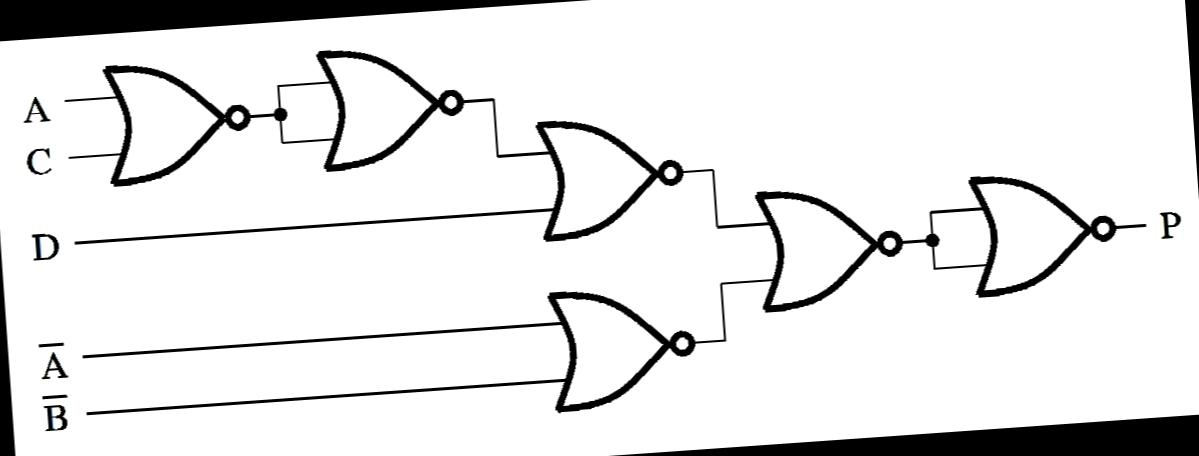nor: (956, 154, 1128, 306), (307, 34, 482, 182), (535, 274, 710, 420), (93, 46, 262, 196), (525, 104, 696, 251), (747, 176, 914, 321)
